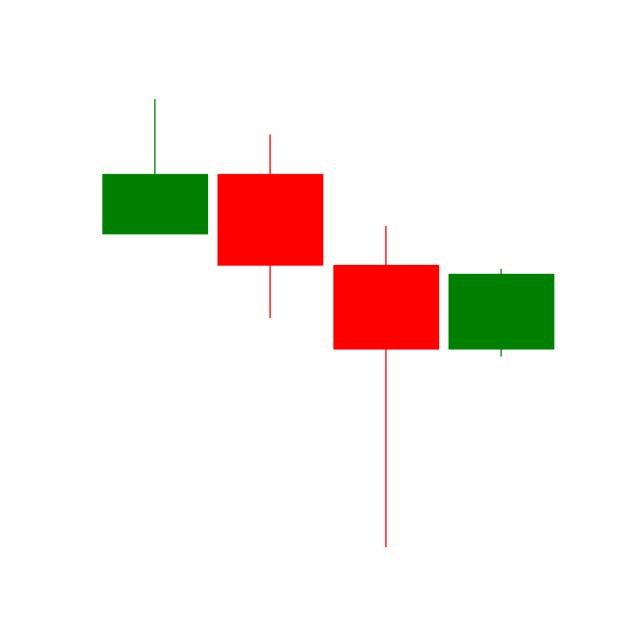Marubozu: (443, 267, 559, 357)
